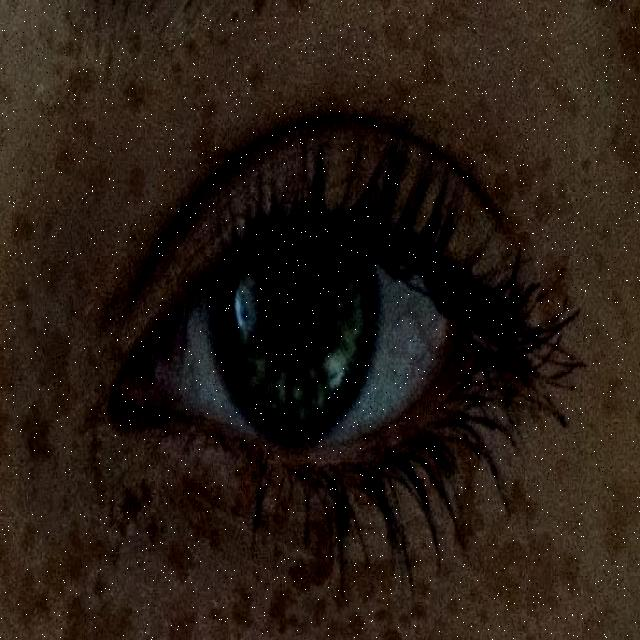Normal: (96, 173, 564, 491)
